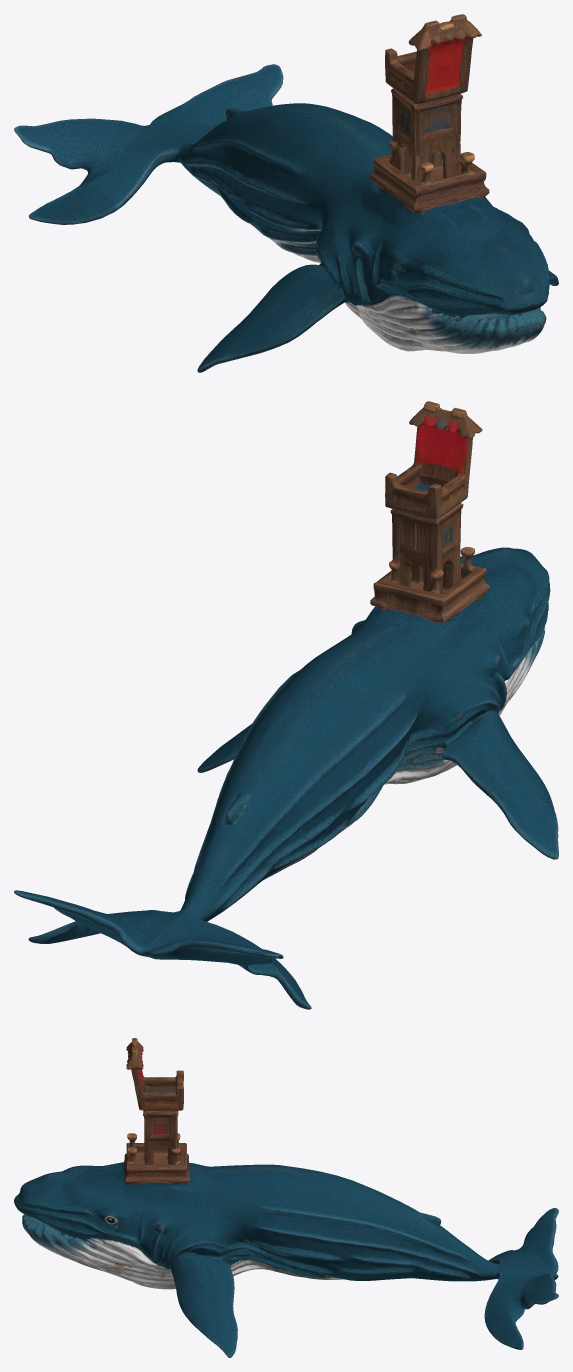
File: meshy_balena.glb
3 views of the same model, one above another, from view 1: azimuth 30°, elevation 25°; view 2: azimuth 150°, elevation 25°; view 3: azimuth 270°, elevation 25° (orthographic). The views are drawn at different scales.
Bounding box in the file's own units: 1.07 × 1.05 × 2.
1 material, 1 textured.
